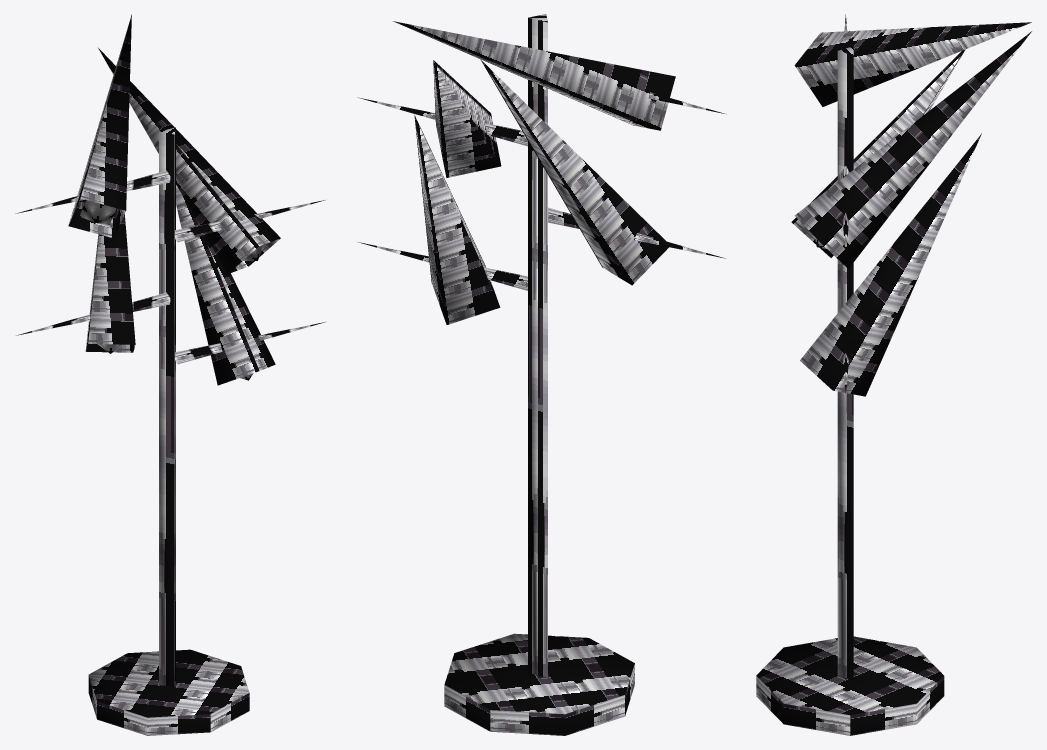
File: 3111IMRL08_10.gltf
The picture shows the model from 3 angles, left to right: view 1: azimuth 30°, elevation 25°; view 2: azimuth 150°, elevation 25°; view 3: azimuth 270°, elevation 25°; orthographic projection. The views are drawn at different scales.
Parts seen in each view (by area): view 1: 3111IMRL08_10; view 2: 3111IMRL08_10; view 3: 3111IMRL08_10.
Boxes of the visible parts, bbox=[...] form: 3111IMRL08_10: bbox=[15, 14, 326, 735]; 3111IMRL08_10: bbox=[357, 14, 726, 735]; 3111IMRL08_10: bbox=[756, 14, 1031, 735].
Size of the model in its own units: 1.15 by 2.16 by 0.7766.
3 materials, 3 textured.
